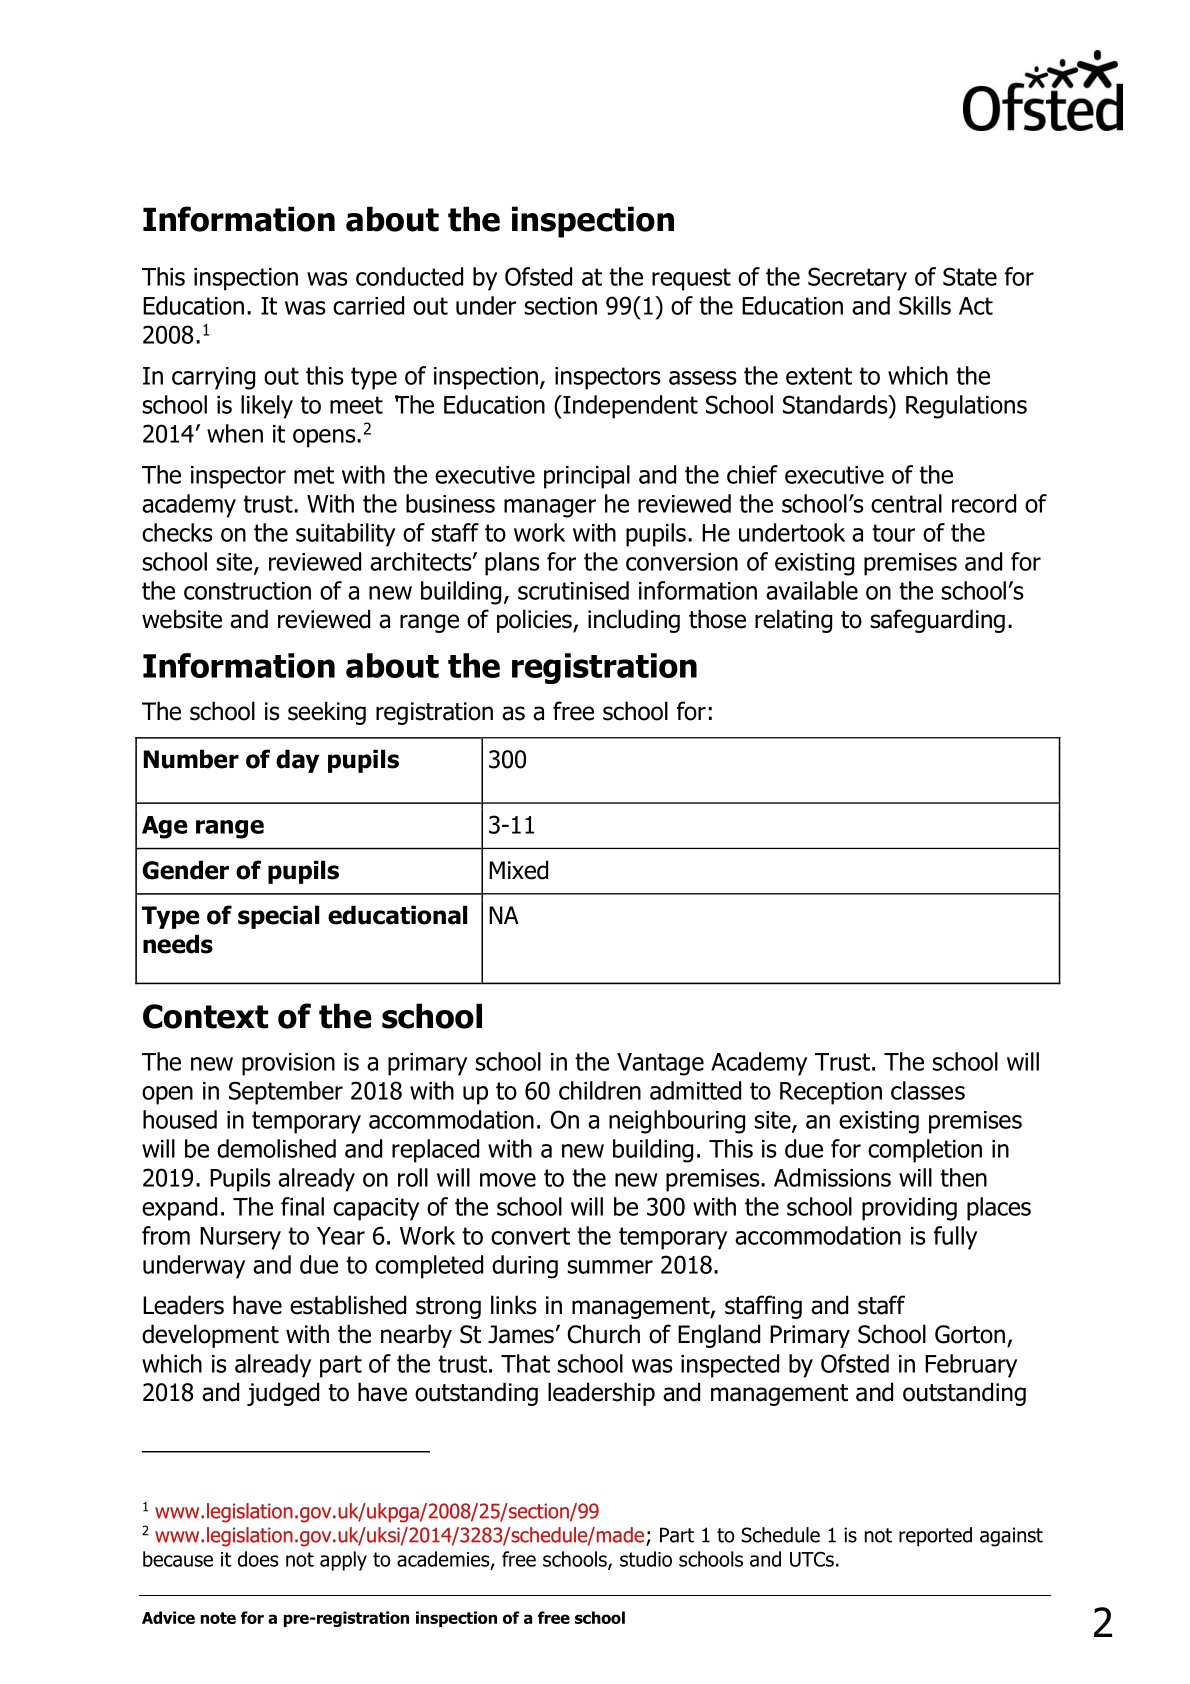full_lined: (134, 736, 1062, 985)
